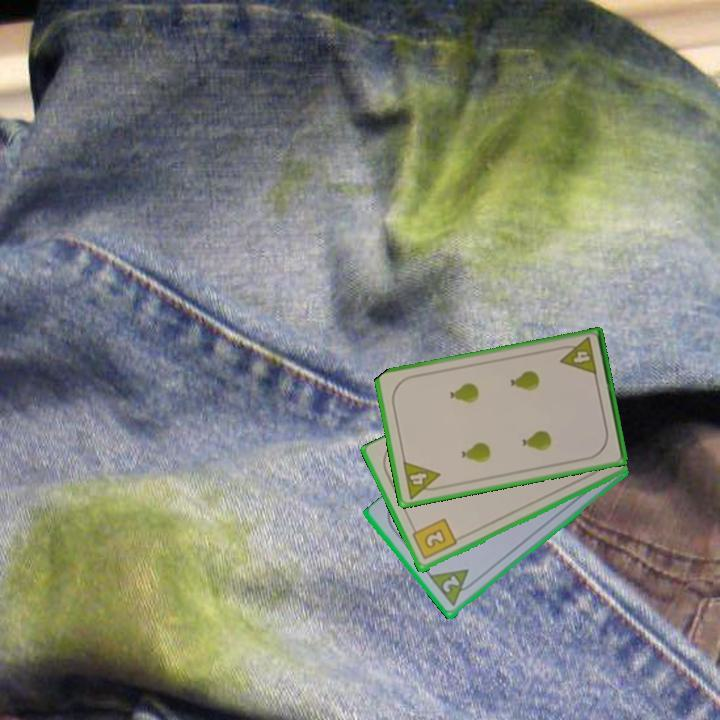2b: (408, 515, 459, 563)
2p: (438, 572, 462, 596)
4p: (399, 457, 445, 502), (555, 334, 600, 378)
